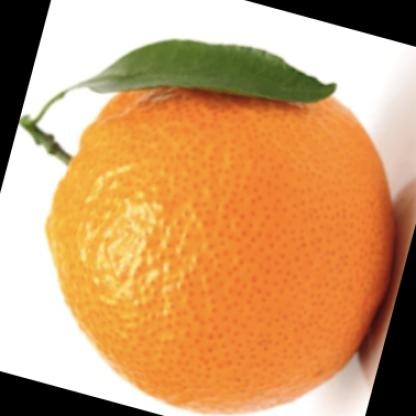fresh: (47, 48, 393, 416)
